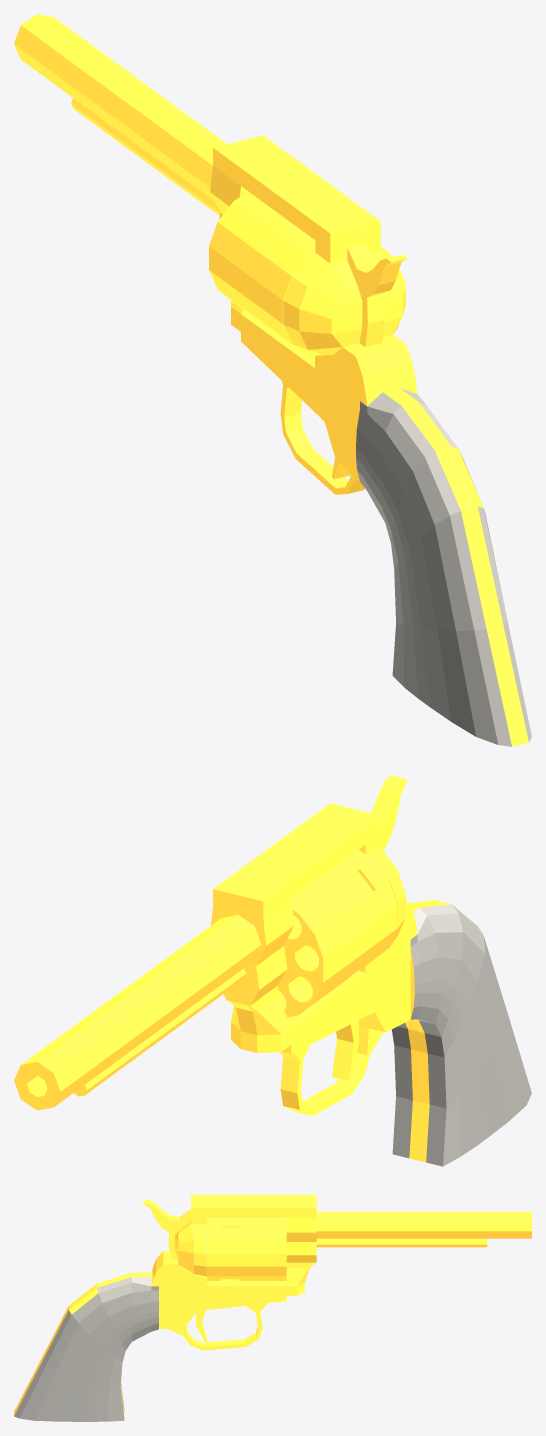
The model's file is golden_revolver.glb.
3 renders of one model, top to bottom at view 1: azimuth 30°, elevation 25°; view 2: azimuth 150°, elevation 25°; view 3: azimuth 270°, elevation 25°, orthographic. The views are drawn at different scales.
Parts seen in each view (by area): view 1: Body, Drum; view 2: Body, Drum; view 3: Body, Drum.
Boxes of the visible parts, x1,y1,x2,y2 form: Body: (14,14,531,746); Drum: (209,191,387,357); Body: (14,775,531,1166); Drum: (278,849,397,1017); Body: (14,1195,531,1421); Drum: (207,1217,286,1280).
Size of the model in its own units: 0.0629 by 0.2083 by 0.46.
